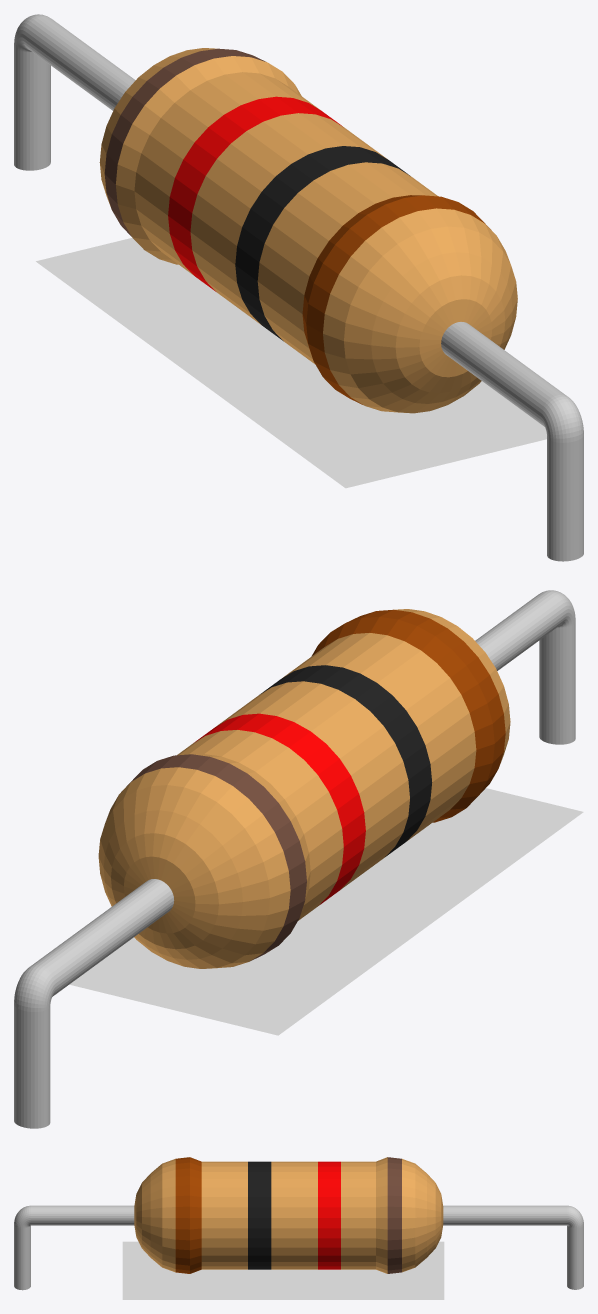
3 renders of one model, top to bottom at view 1: azimuth 30°, elevation 25°; view 2: azimuth 150°, elevation 25°; view 3: azimuth 270°, elevation 25°, orthographic. The views are drawn at different scales.
Parts seen in each view (by area): view 1: R_6, R_6_plane; view 2: R_6, R_6_plane; view 3: R_6, R_6_plane.
Part boxes in pixels (x1=…): R_6: x1=14, y1=14, x2=583, y2=561; R_6_plane: x1=36, y1=237, x2=546, y2=488; R_6: x1=14, y1=590, x2=575, y2=1128; R_6_plane: x1=69, y1=788, x2=583, y2=1035; R_6: x1=14, y1=1157, x2=583, y2=1290; R_6_plane: x1=122, y1=1241, x2=444, y2=1299.
Size of the model in its own units: 0.0161 by 0.0159 by 0.0664.
